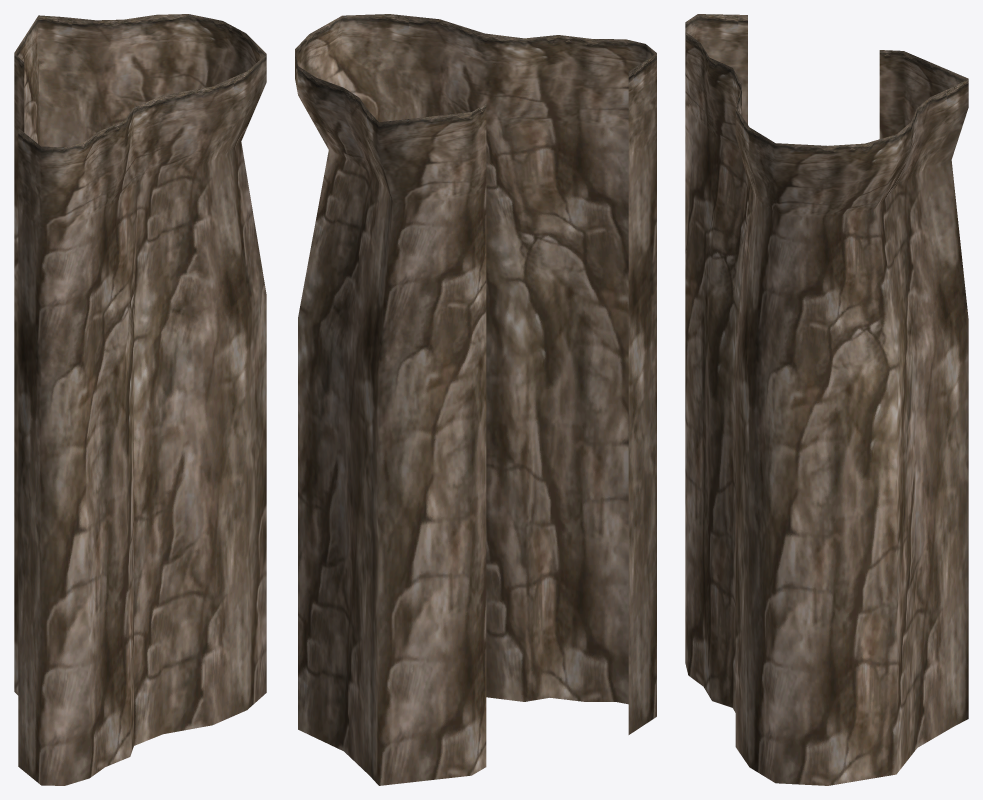
File: OVERHILL_A_01_LINE54.fbx
3 renders of one model, left to right at view 1: azimuth 30°, elevation 25°; view 2: azimuth 150°, elevation 25°; view 3: azimuth 270°, elevation 25°, orthographic. The views are drawn at different scales.
Parts seen in each view (by area): view 1: OVERHILL_A_01_LINE54; view 2: OVERHILL_A_01_LINE54; view 3: OVERHILL_A_01_LINE54.
Boxes of the visible parts, bbox=[...] form: OVERHILL_A_01_LINE54: bbox=[14, 14, 266, 785]; OVERHILL_A_01_LINE54: bbox=[295, 14, 656, 785]; OVERHILL_A_01_LINE54: bbox=[685, 14, 968, 785].
Bounding box in the file's own units: 74940 × 169645 × 68115.
Materials: 2 (2 with a texture image).
